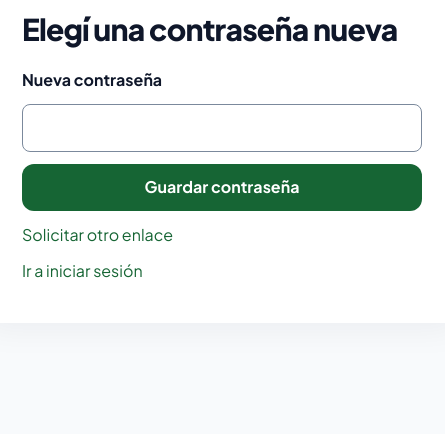
Test: resets a password without exposing the token and handles an invalid link
Step 1. Type "correct-password-123" into the password field labelled "Nueva contraseña" → (222, 128), box x1=22 y1=104 x2=422 y2=152
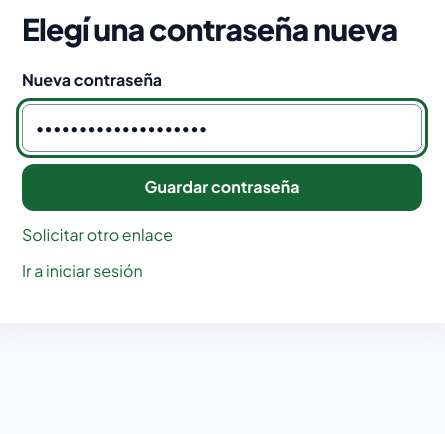
Step 2. Click the button "Guardar contraseña" → (222, 188), box x1=22 y1=164 x2=422 y2=211
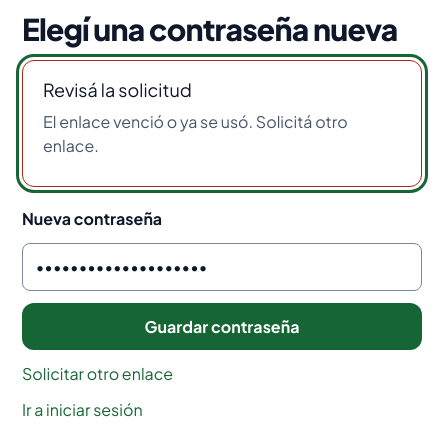
Now the message shows "Solicitá otro enlace", box x1=43 y1=112 x2=348 y2=156
